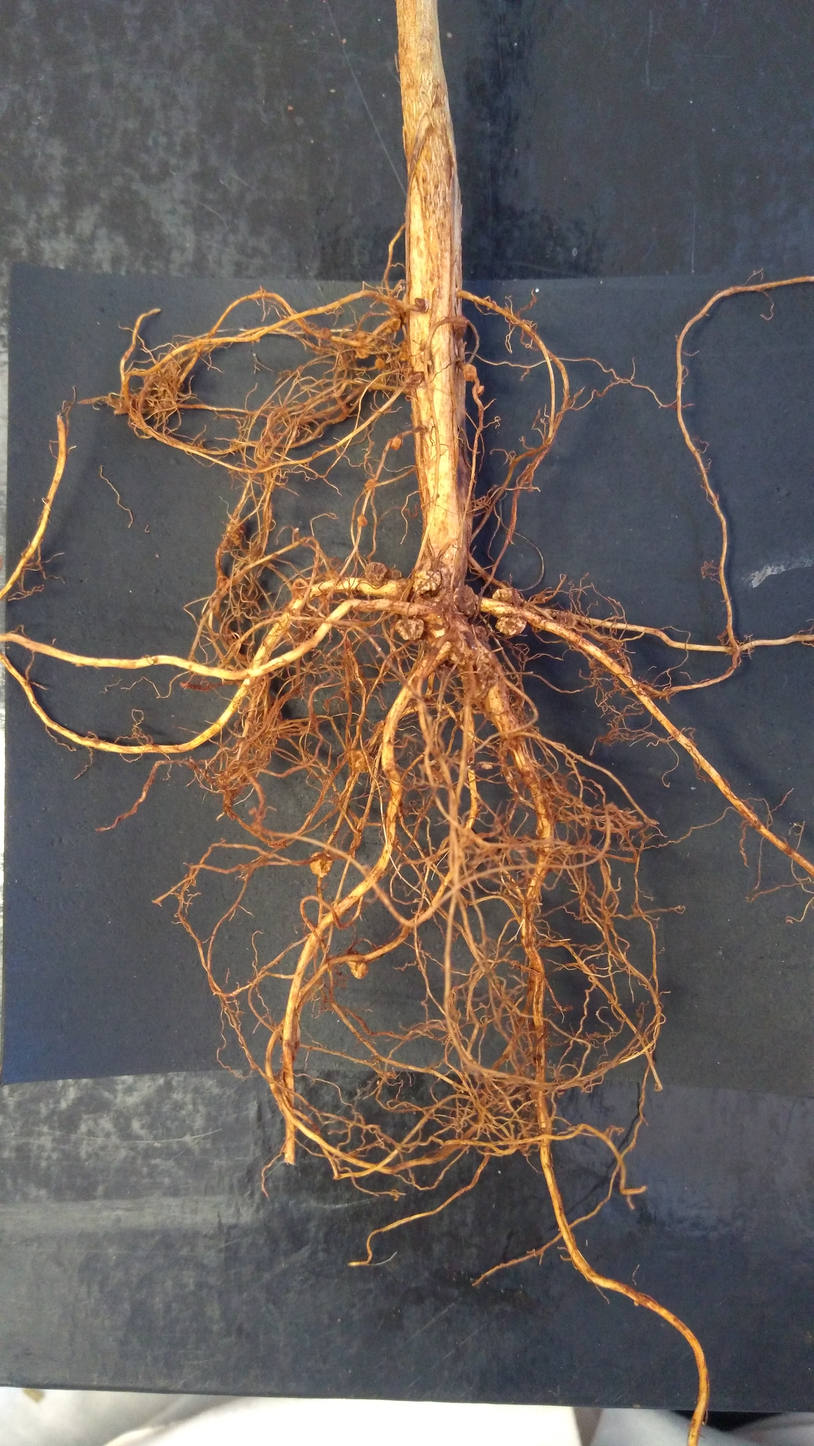nodule: (450, 582, 480, 619), (412, 566, 444, 597), (307, 850, 337, 882), (492, 613, 531, 637), (394, 616, 427, 642), (490, 584, 525, 608), (362, 559, 389, 589), (345, 957, 373, 985), (351, 748, 377, 777), (451, 315, 470, 342), (463, 361, 478, 383), (353, 344, 371, 360), (449, 652, 466, 668), (389, 437, 406, 452), (355, 512, 370, 528), (387, 567, 404, 581), (388, 316, 402, 332), (318, 325, 333, 339), (374, 356, 387, 372), (398, 341, 409, 359), (363, 476, 377, 490), (414, 296, 428, 309), (355, 329, 370, 340), (475, 384, 486, 398)
